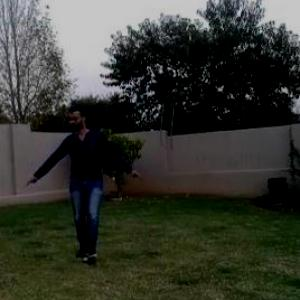land: (15, 92, 156, 278)
